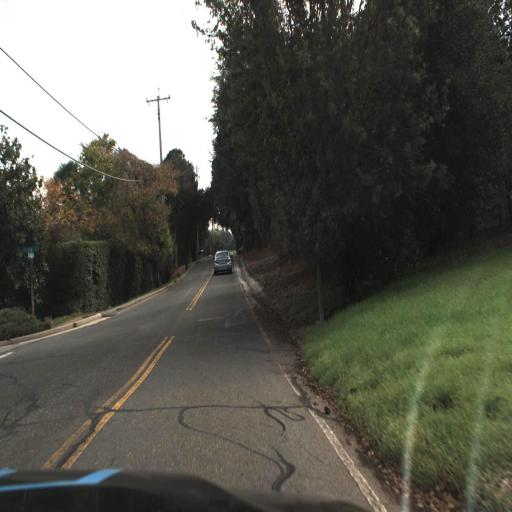car: (212, 246, 236, 277)
